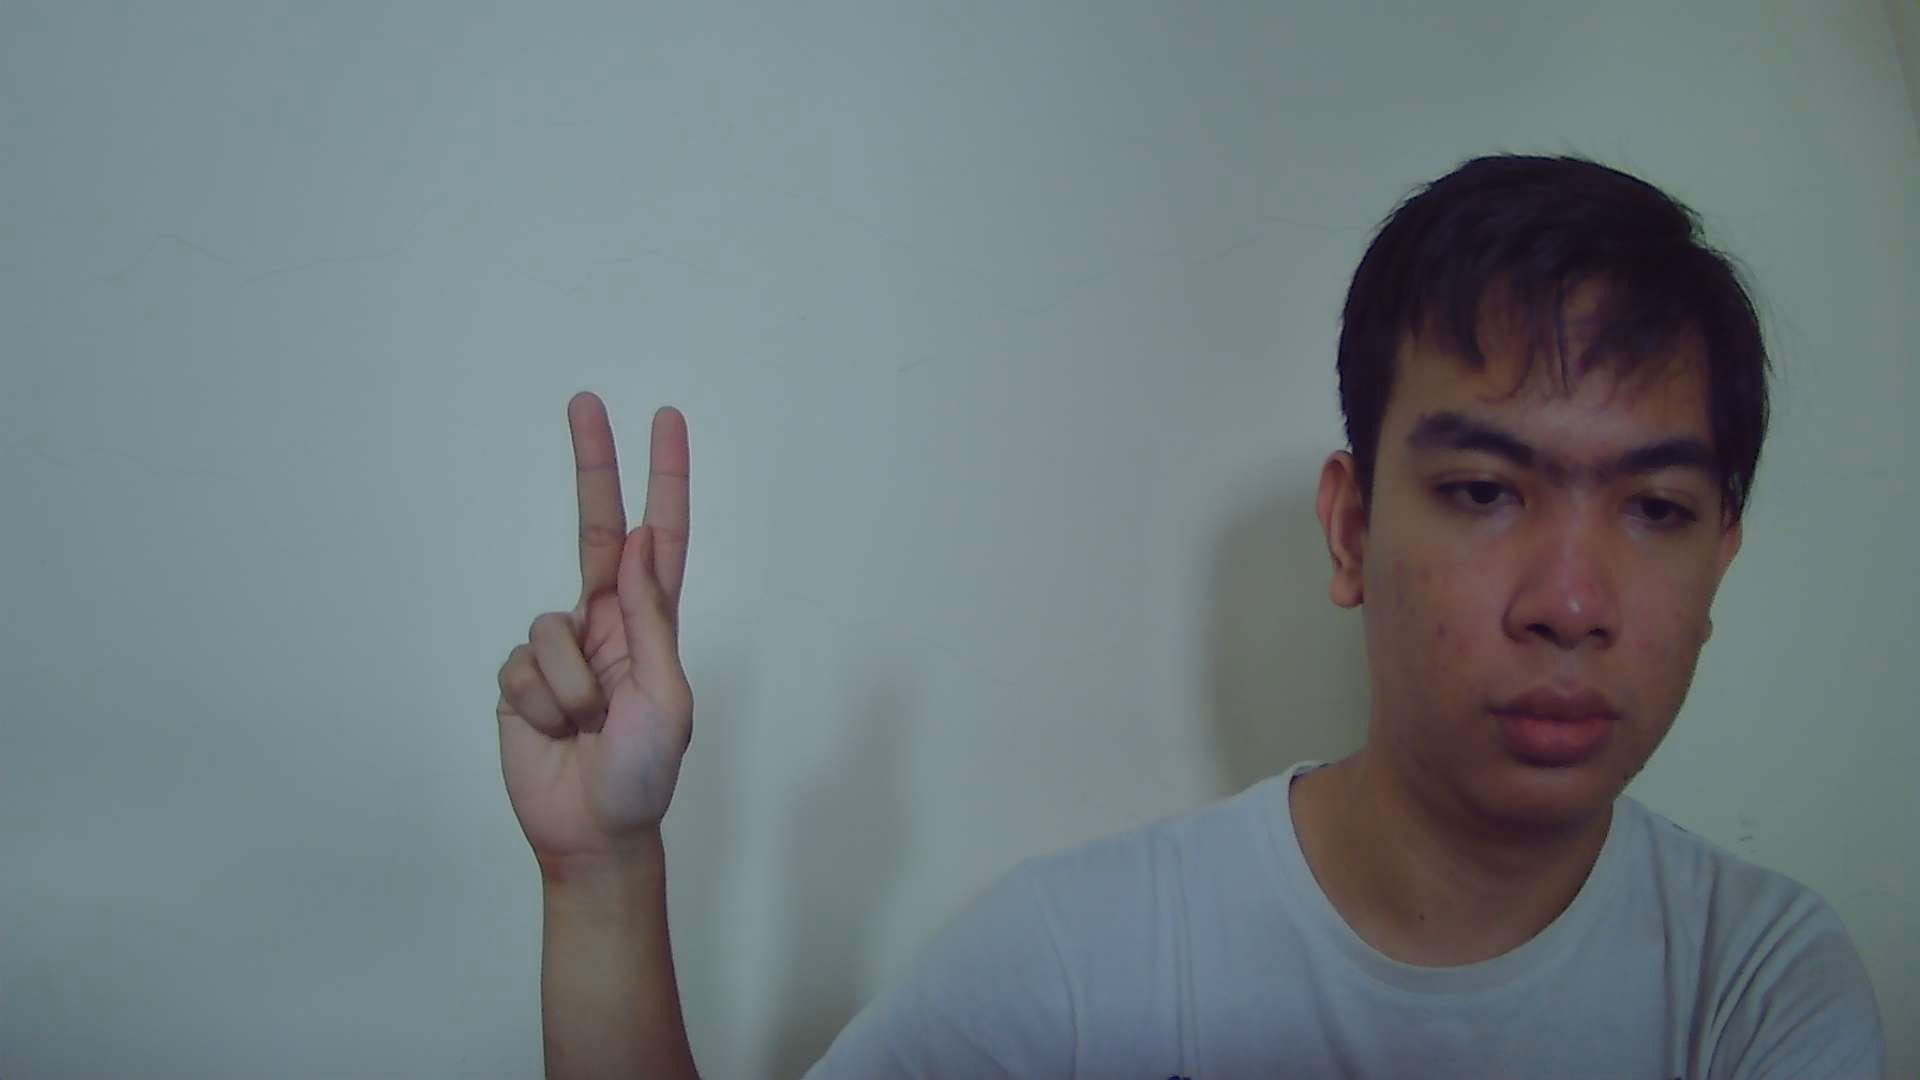k: (491, 386, 698, 798)
